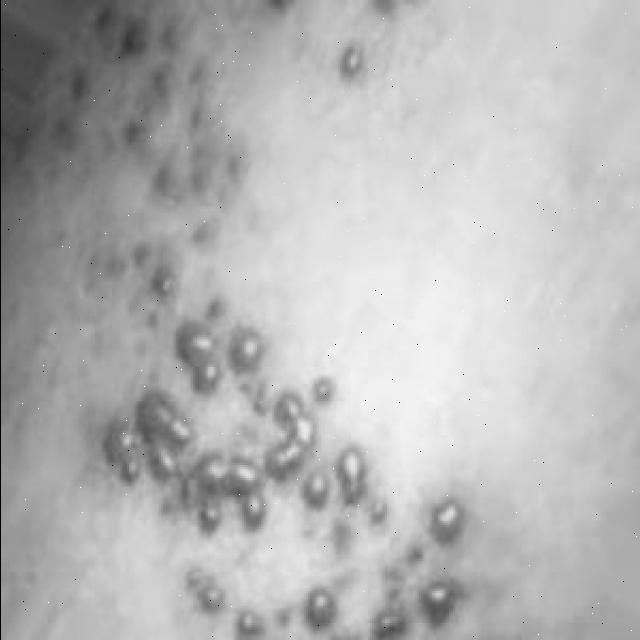Shingles: (106, 269, 468, 640)
